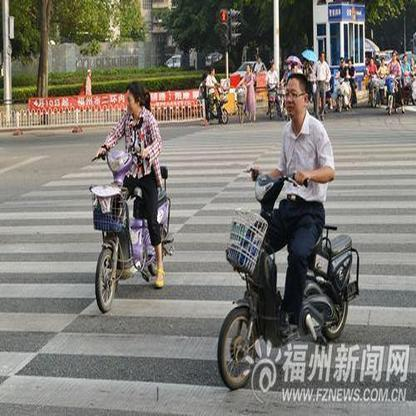target: (214, 74, 360, 385), (93, 79, 176, 314)
